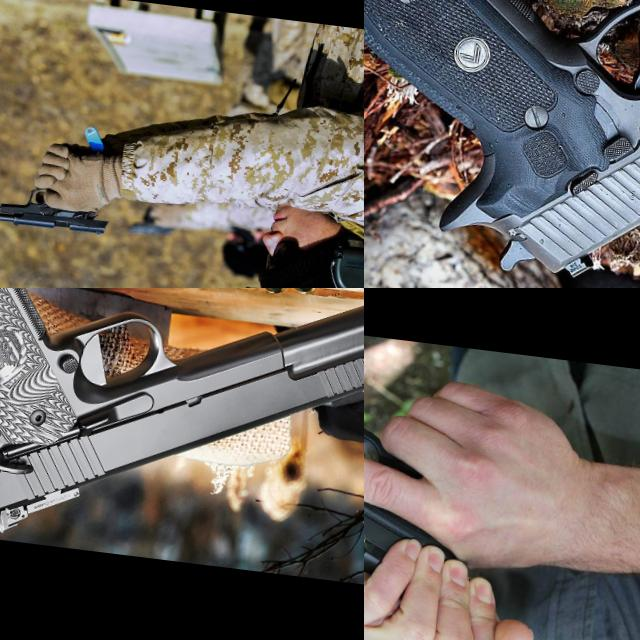handgun: (0, 288, 364, 584), (364, 0, 640, 288), (364, 378, 520, 587), (0, 178, 113, 238)
